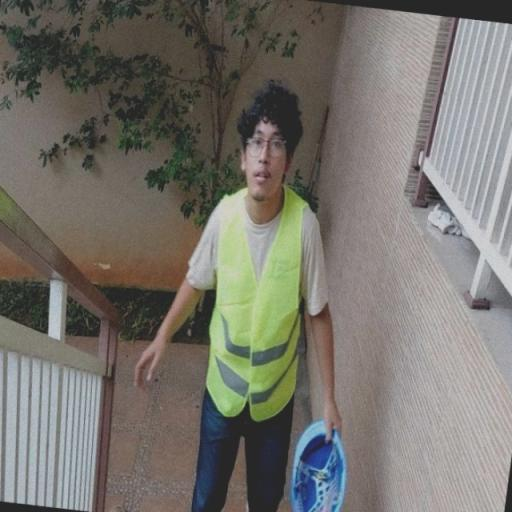Person: (116, 64, 404, 512)
helmet: (289, 418, 362, 510)
vest: (191, 176, 314, 430)
